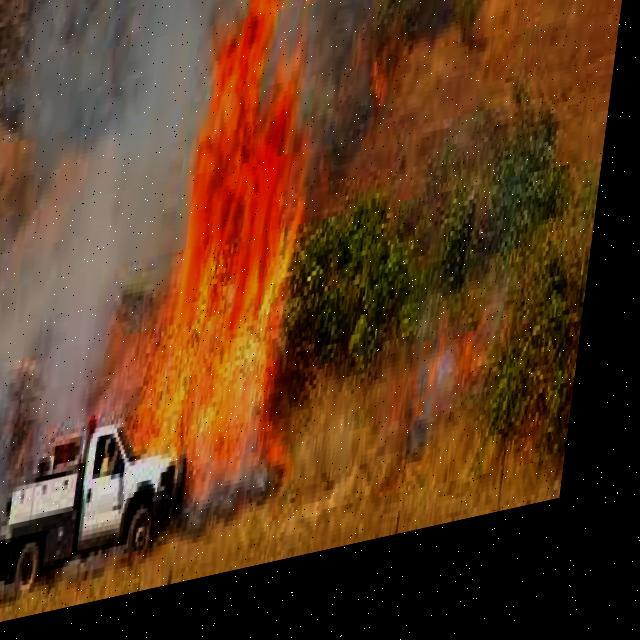Fire: (124, 0, 356, 552), (391, 317, 516, 482), (353, 44, 426, 158)
